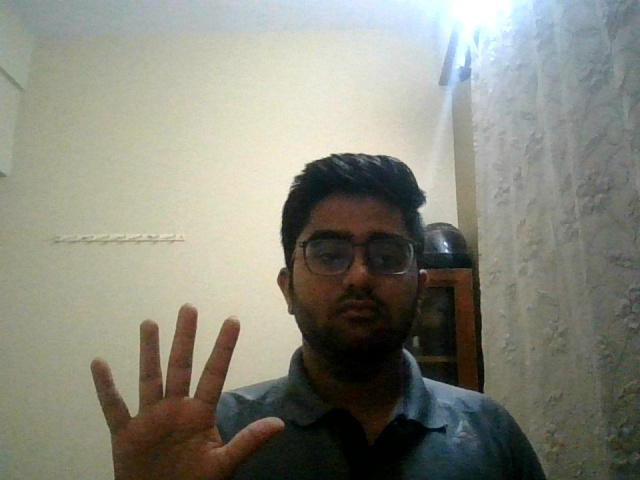Hello: (39, 290, 315, 480)
